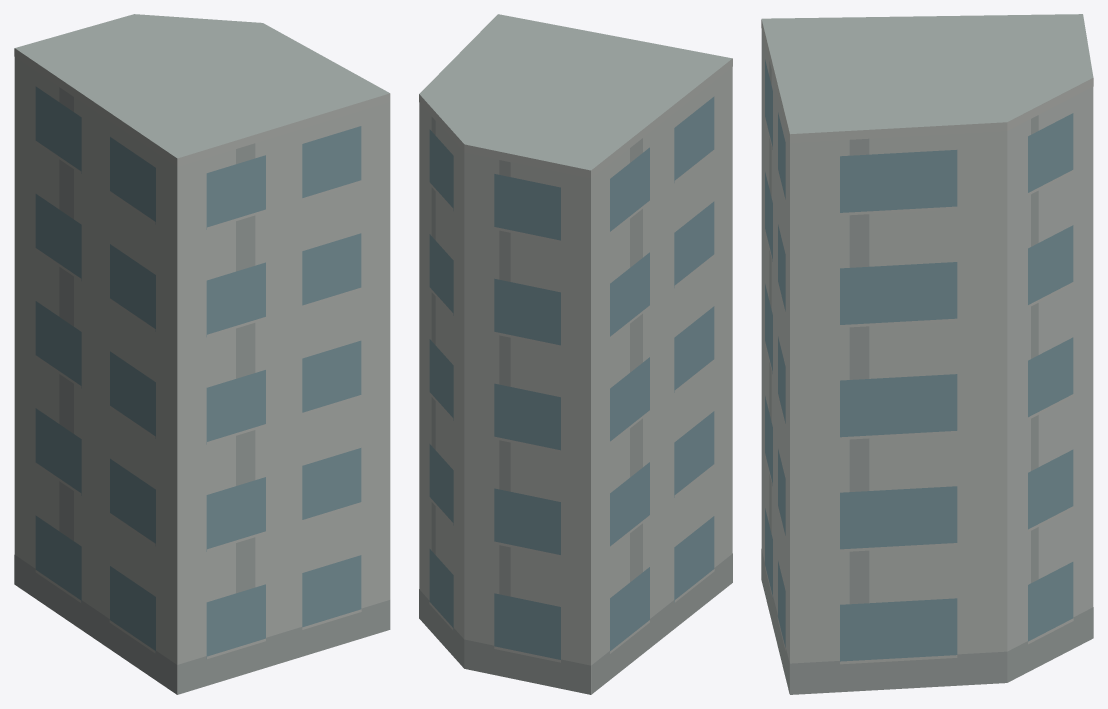
The model's file is residential-5fc8cac6-b865-4a58-85de-567f47dc8f0f.glb.
3 views of the same model, side by side, from view 1: azimuth 30°, elevation 25°; view 2: azimuth 150°, elevation 25°; view 3: azimuth 270°, elevation 25° (orthographic). The views are drawn at different scales.
Parts seen in each view (by area): view 1: residential-5fc8cac6-b865-4a58-85de-567f47dc8f0f.tmp; view 2: residential-5fc8cac6-b865-4a58-85de-567f47dc8f0f.tmp; view 3: residential-5fc8cac6-b865-4a58-85de-567f47dc8f0f.tmp.
Boxes of the visible parts, box(x1,y1,x2,y2) form: residential-5fc8cac6-b865-4a58-85de-567f47dc8f0f.tmp: box(14, 14, 390, 694); residential-5fc8cac6-b865-4a58-85de-567f47dc8f0f.tmp: box(419, 14, 732, 694); residential-5fc8cac6-b865-4a58-85de-567f47dc8f0f.tmp: box(761, 14, 1093, 694).
Size of the model in its own units: 7.02 by 15.25 by 8.19.
